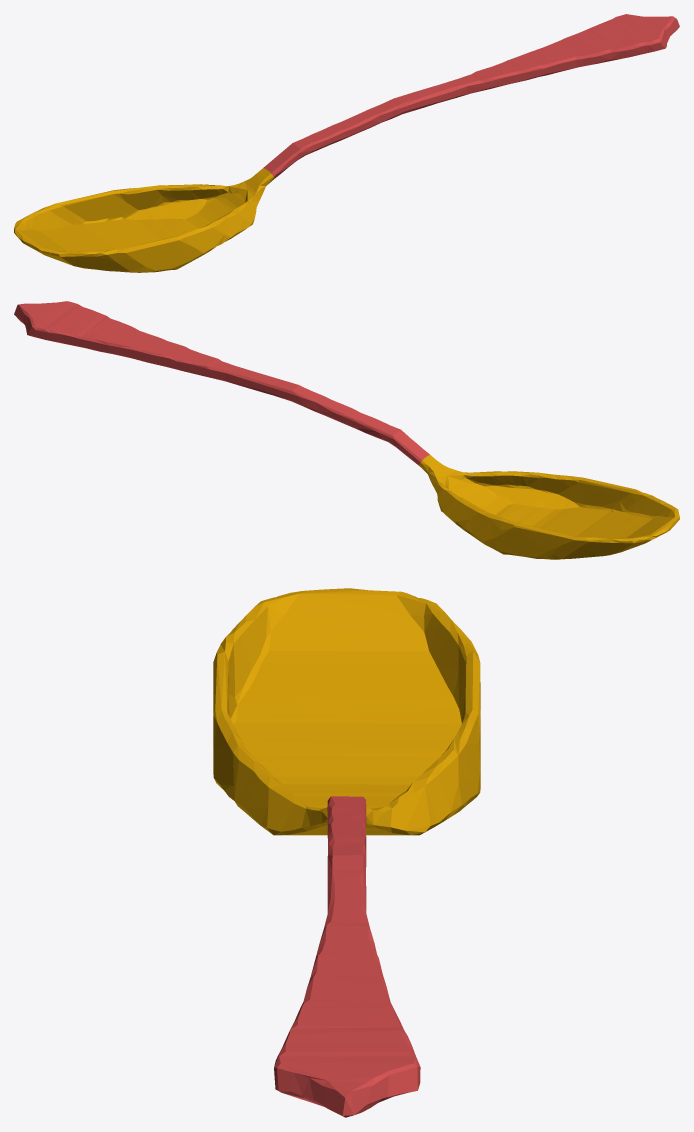
The model's file is mode_1_2pcs.glb.
The picture shows the model from 3 angles, top to bottom: view 1: azimuth 30°, elevation 25°; view 2: azimuth 150°, elevation 25°; view 3: azimuth 270°, elevation 25°; orthographic projection. The views are drawn at different scales.
Visible parts, largest first — view 1: piece_0.obj, piece_1.obj; view 2: piece_0.obj, piece_1.obj; view 3: piece_0.obj, piece_1.obj.
Boxes of the visible parts, x1,y1,x2,y2 form: piece_0.obj: (14,168,274,272); piece_1.obj: (263,14,679,178); piece_0.obj: (418,455,679,559); piece_1.obj: (14,301,429,465); piece_0.obj: (213,588,480,835); piece_1.obj: (274,796,420,1117).
Size of the model in its own units: 1 by 0.1481 by 0.1767.
